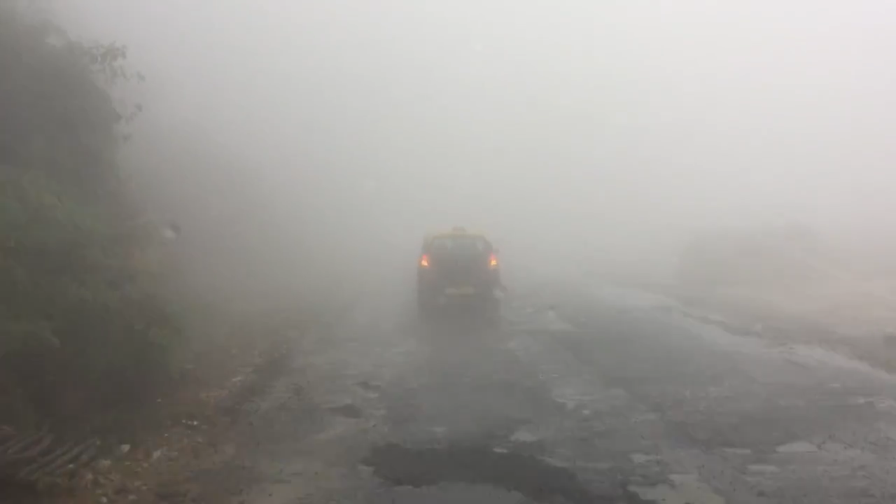car: (415, 224, 502, 312)
